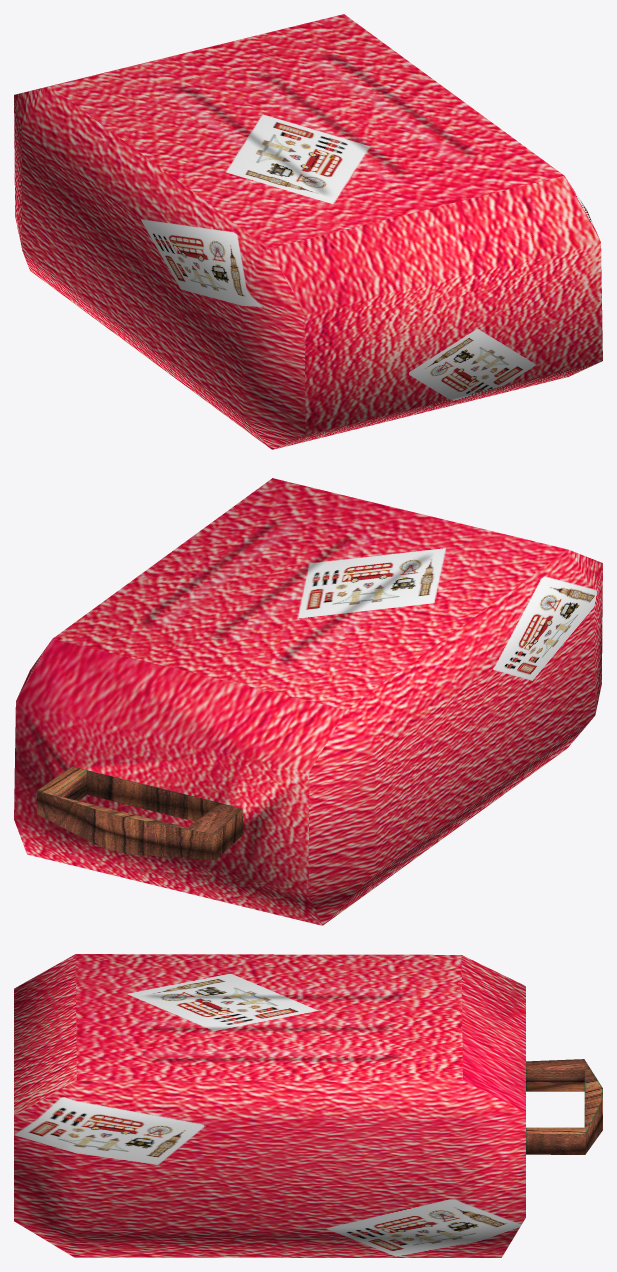
File: SuitCase.FBX
3 renders of one model, top to bottom at view 1: azimuth 30°, elevation 25°; view 2: azimuth 150°, elevation 25°; view 3: azimuth 270°, elevation 25°, orthographic. The views are drawn at different scales.
Parts seen in each view (by area): view 1: Box001; view 2: Box001; view 3: Box001.
Part boxes in pixels (box(x1,y1,x2,y2)): Box001: box(14, 14, 602, 449); Box001: box(14, 478, 602, 925); Box001: box(14, 954, 602, 1257).
Bounding box in the file's own units: 16.5 × 27.89 × 9.19.
